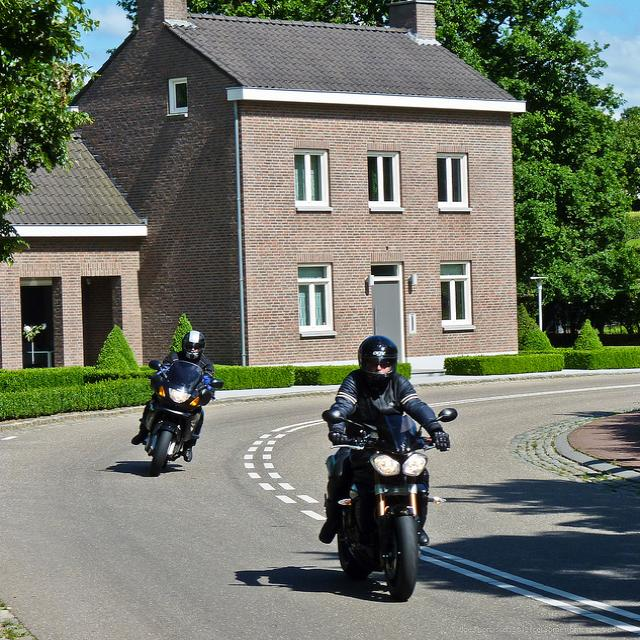motor: (327, 409, 456, 602), (144, 358, 224, 476)
